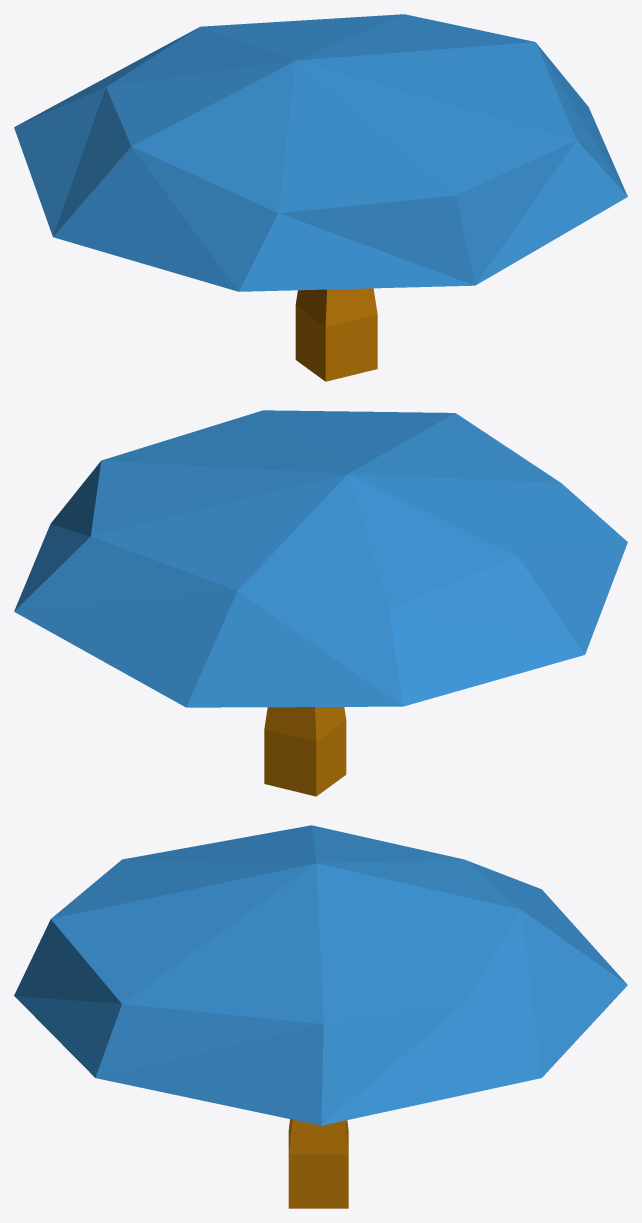
The model's file is toad1.dae.
The picture shows the model from 3 angles, top to bottom: view 1: azimuth 30°, elevation 25°; view 2: azimuth 150°, elevation 25°; view 3: azimuth 270°, elevation 25°; orthographic projection.
Visible parts, largest first — view 1: Cube_002; view 2: Cube_002; view 3: Cube_002.
Boxes of the visible parts, x1,y1,x2,y2 form: Cube_002: [14, 14, 627, 381]; Cube_002: [14, 410, 627, 796]; Cube_002: [14, 825, 627, 1208].
Bounding box in the file's own units: 20.57 × 20.57 × 11.56.
